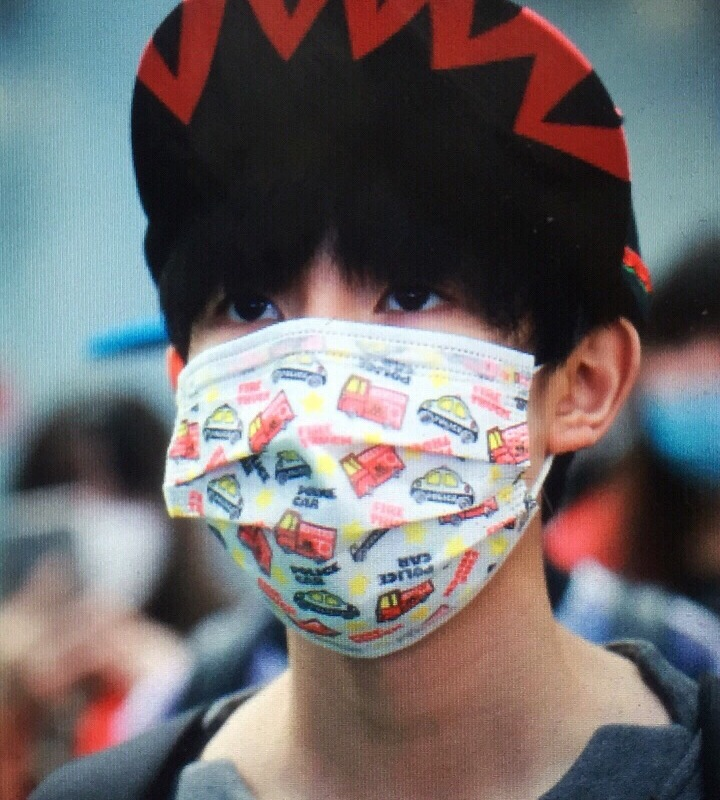face_mask: (180, 134, 529, 625)
